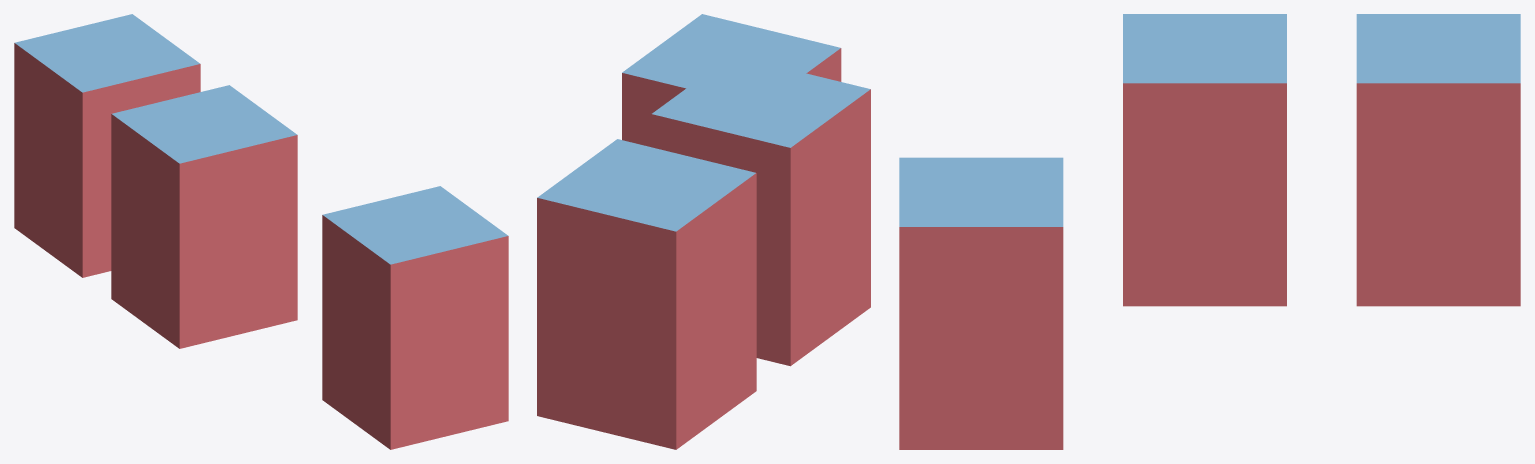
Rendered from instances.edited.glb.
The picture shows the model from 3 angles, left to right: view 1: azimuth 30°, elevation 25°; view 2: azimuth 150°, elevation 25°; view 3: azimuth 270°, elevation 25°; orthographic projection. The views are drawn at different scales.
Parts seen in each view (by area): view 1: HewModel; view 2: HewModel; view 3: HewModel.
Boxes of the visible parts, x1,y1,x2,y2 form: HewModel: (14, 14, 508, 449); HewModel: (537, 14, 870, 449); HewModel: (899, 14, 1520, 449).
Bounding box in the file's own units: 2 × 2 × 3.79.
